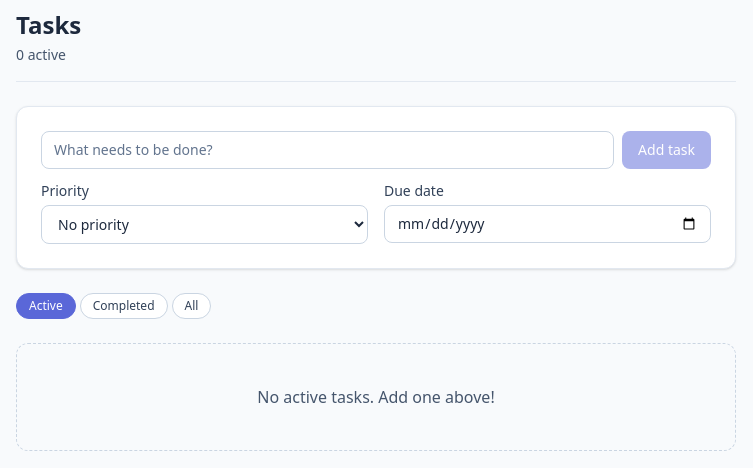
Tasks page › switches the completed filter and shows its empty message
Click the button "Completed". click: [124, 306]
box: [80,293,168,319]
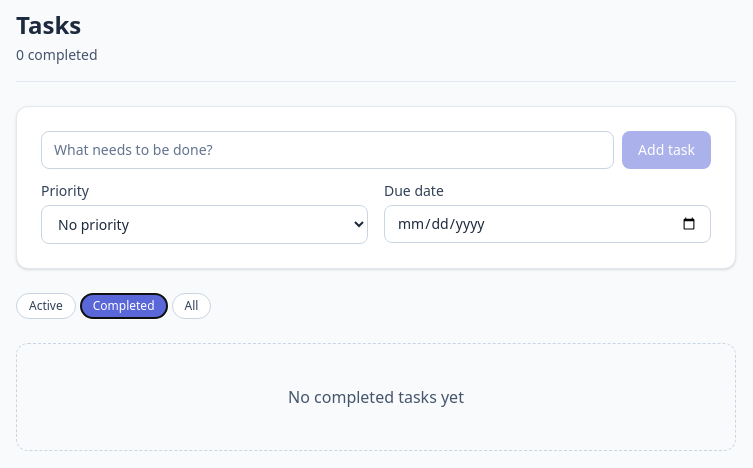
Expected: the text "No completed tasks yet" is shown, [288,386,464,408]
